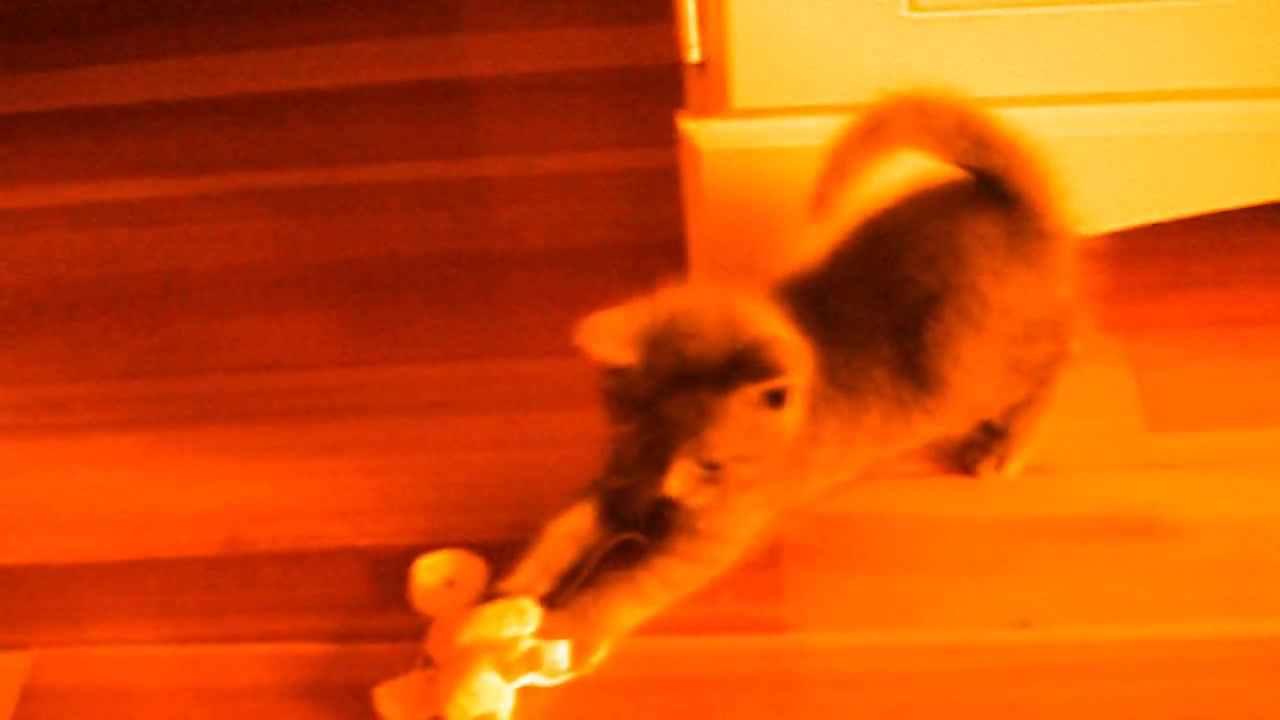cat: (494, 98, 1073, 689)
